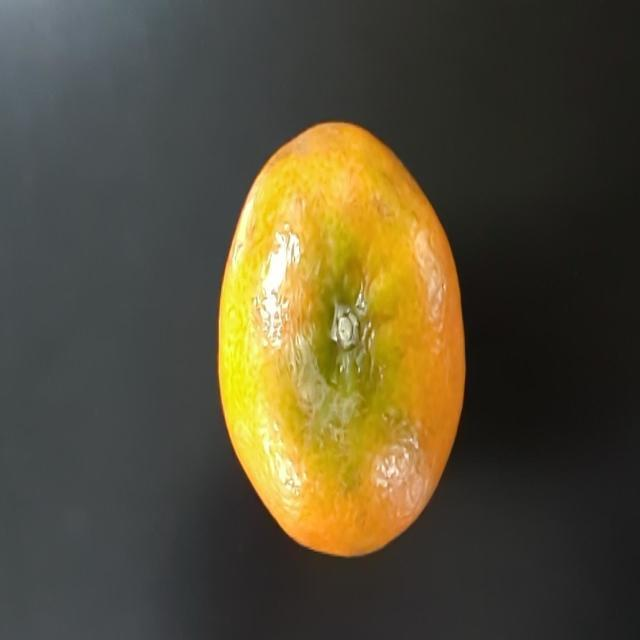Jeruk Mandarin: (221, 102, 465, 560)
